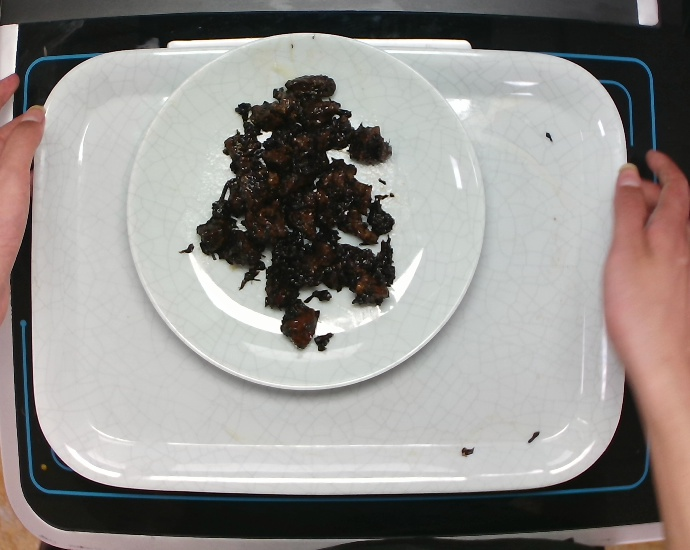JYsf-Da_Yuan_Pan: (120, 31, 490, 398)
